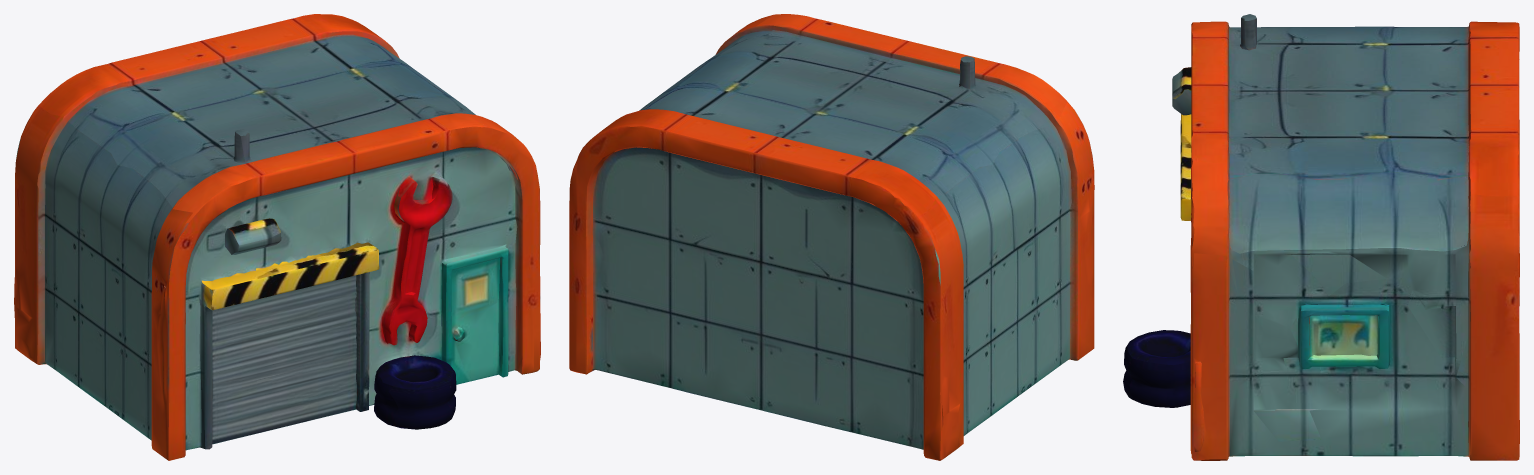
Rendered from garage.glb.
3 renders of one model, left to right at view 1: azimuth 30°, elevation 25°; view 2: azimuth 150°, elevation 25°; view 3: azimuth 270°, elevation 25°, orthographic. The views are drawn at different scales.
Visible parts, largest first — view 1: garage2; view 2: garage2; view 3: garage2.
Boxes of the visible parts, x1,y1,x2,y2 form: garage2: [14, 14, 540, 460]; garage2: [569, 14, 1094, 460]; garage2: [1123, 14, 1519, 460].
Size of the model in its own units: 1 by 0.7322 by 0.8615.
Materials: 1 (1 with a texture image).
